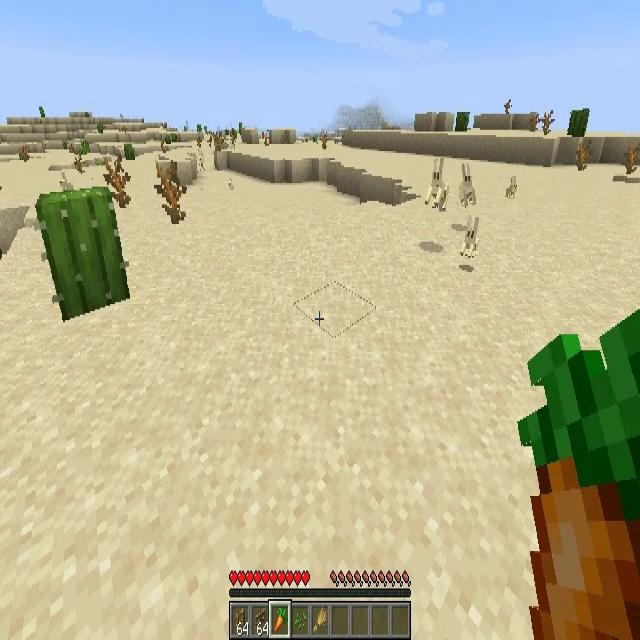rabbit: (426, 159, 448, 209), (458, 215, 480, 262), (458, 162, 476, 208), (505, 175, 517, 202), (198, 149, 205, 171), (228, 177, 235, 192)
